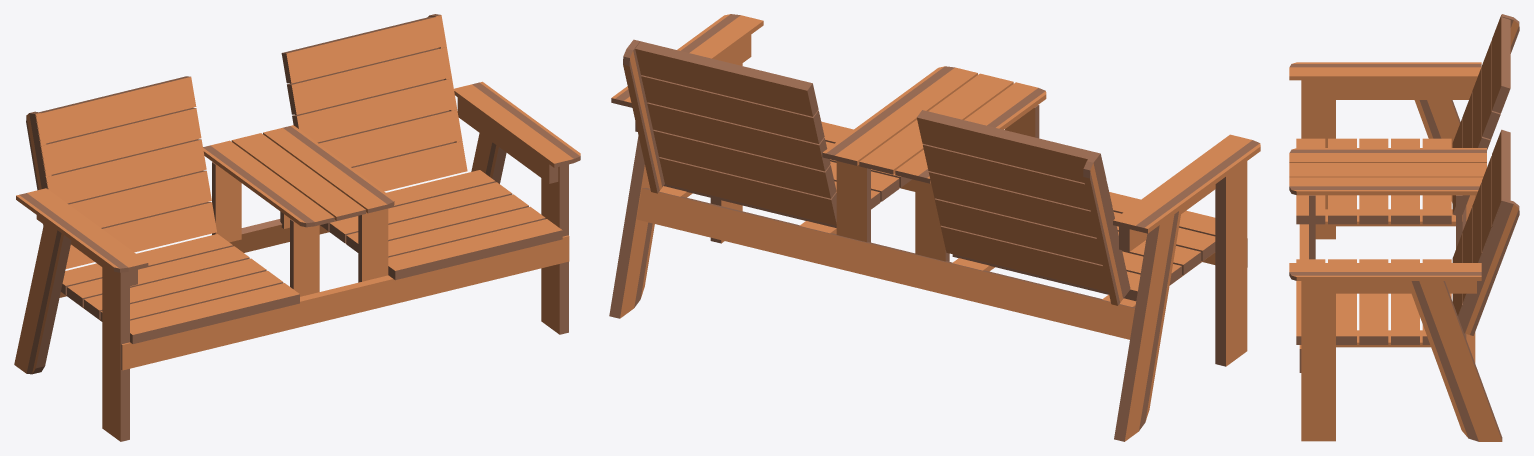
Rendered from bilun - chair.fbx.
3 renders of one model, left to right at view 1: azimuth 30°, elevation 25°; view 2: azimuth 150°, elevation 25°; view 3: azimuth 270°, elevation 25°, orthographic. The views are drawn at different scales.
Visible parts, largest first — view 1: Cube; view 2: Cube; view 3: Cube.
Part boxes in pixels (x1,y1,x2,y2): Cube: [14, 14, 580, 441]; Cube: [609, 14, 1260, 441]; Cube: [1289, 14, 1519, 441].
Size of the model in its own units: 269 by 135 by 122.
